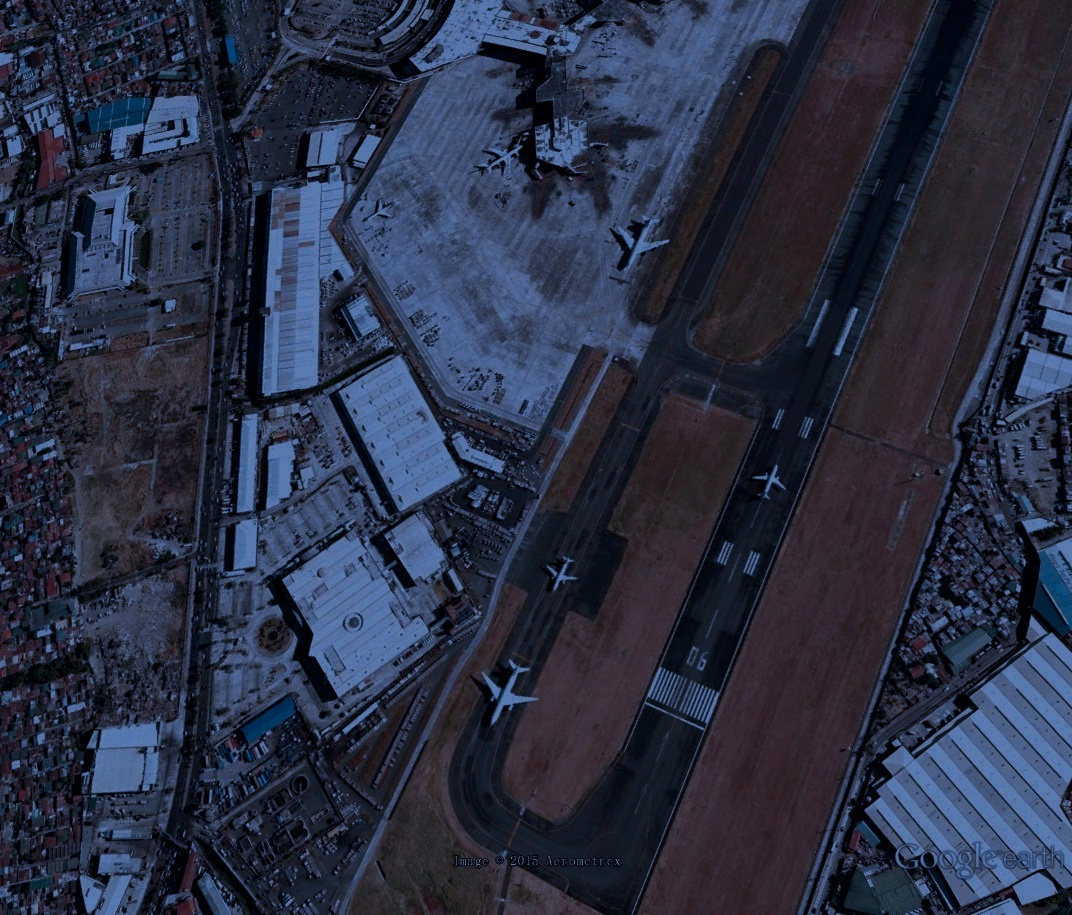aircraft: (478, 655, 546, 733), (610, 213, 673, 276), (747, 460, 793, 507), (472, 141, 529, 178), (540, 552, 586, 595), (361, 196, 397, 226)
